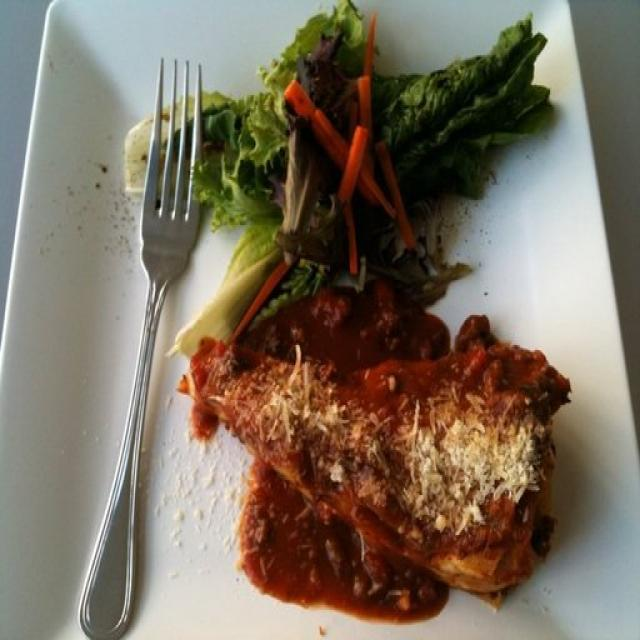Lasagna: (196, 325, 578, 613)
